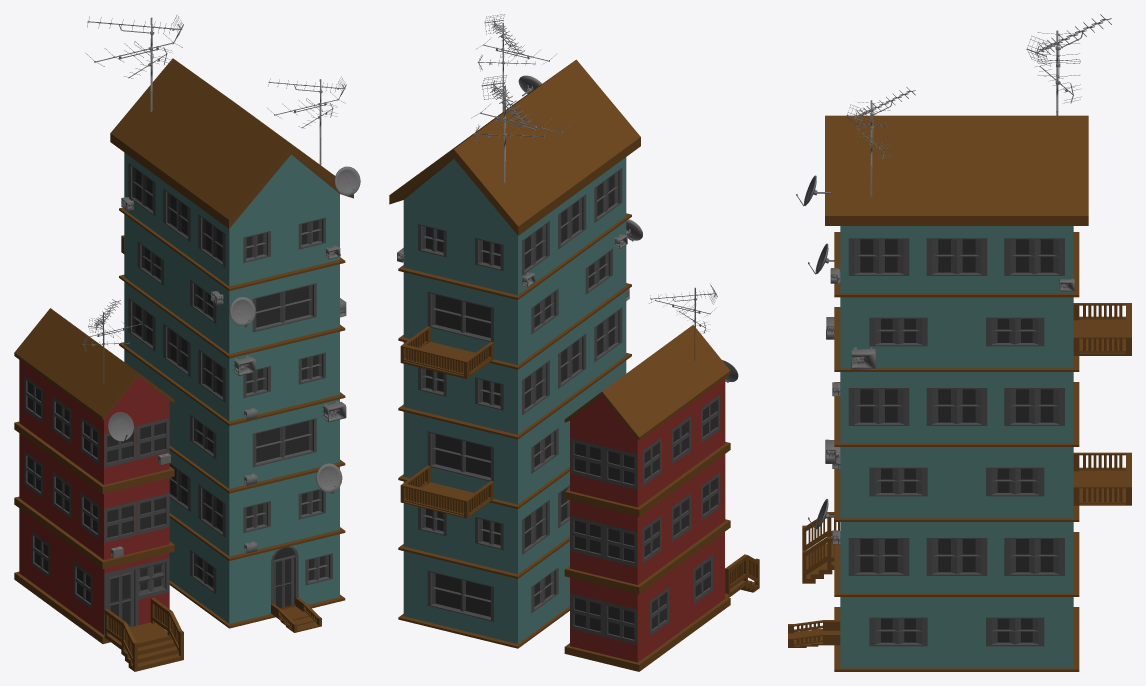
The model's file is herenhuis5.fbx.
The picture shows the model from 3 angles, left to right: view 1: azimuth 30°, elevation 25°; view 2: azimuth 150°, elevation 25°; view 3: azimuth 270°, elevation 25°; orthographic projection. The views are drawn at different scales.
Visible parts, largest first — view 1: building_003, building_001, antenna_b.001, satelite.005; view 2: building_003, building_001, antenna_b.001; view 3: building_003, building_001.
Boxes of the visible parts, bbox=[...] form: building_003: bbox=[85, 14, 360, 632]; building_001: bbox=[14, 308, 183, 671]; antenna_b.001: bbox=[82, 299, 147, 383]; satelite.005: bbox=[108, 412, 133, 442]; building_003: bbox=[389, 14, 642, 648]; building_001: bbox=[564, 324, 759, 671]; antenna_b.001: bbox=[649, 284, 717, 361]; building_003: bbox=[788, 14, 1131, 671]; building_001: bbox=[802, 512, 839, 583].
Size of the model in its own units: 2561 by 5437 by 2835.
